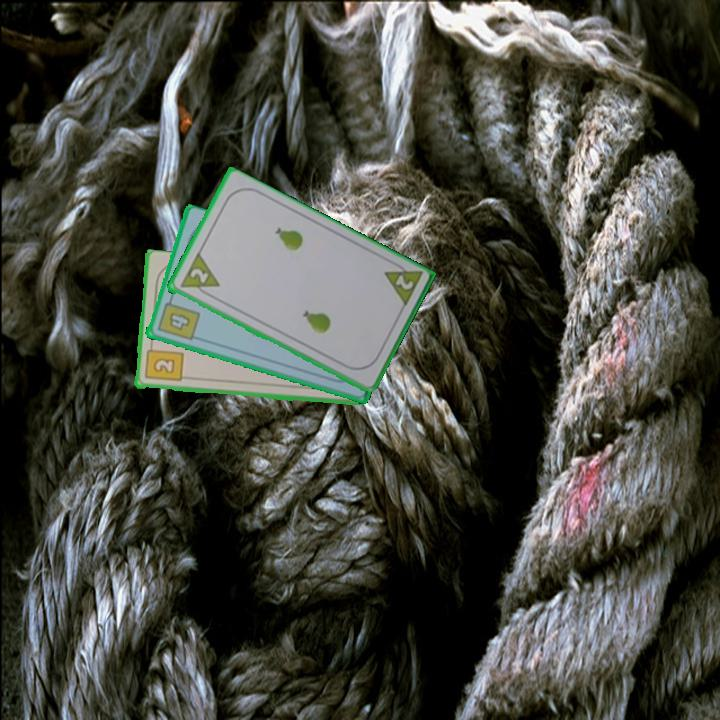2b: (141, 340, 185, 385)
2p: (391, 271, 416, 293), (186, 265, 211, 286)
4b: (153, 293, 202, 343)
